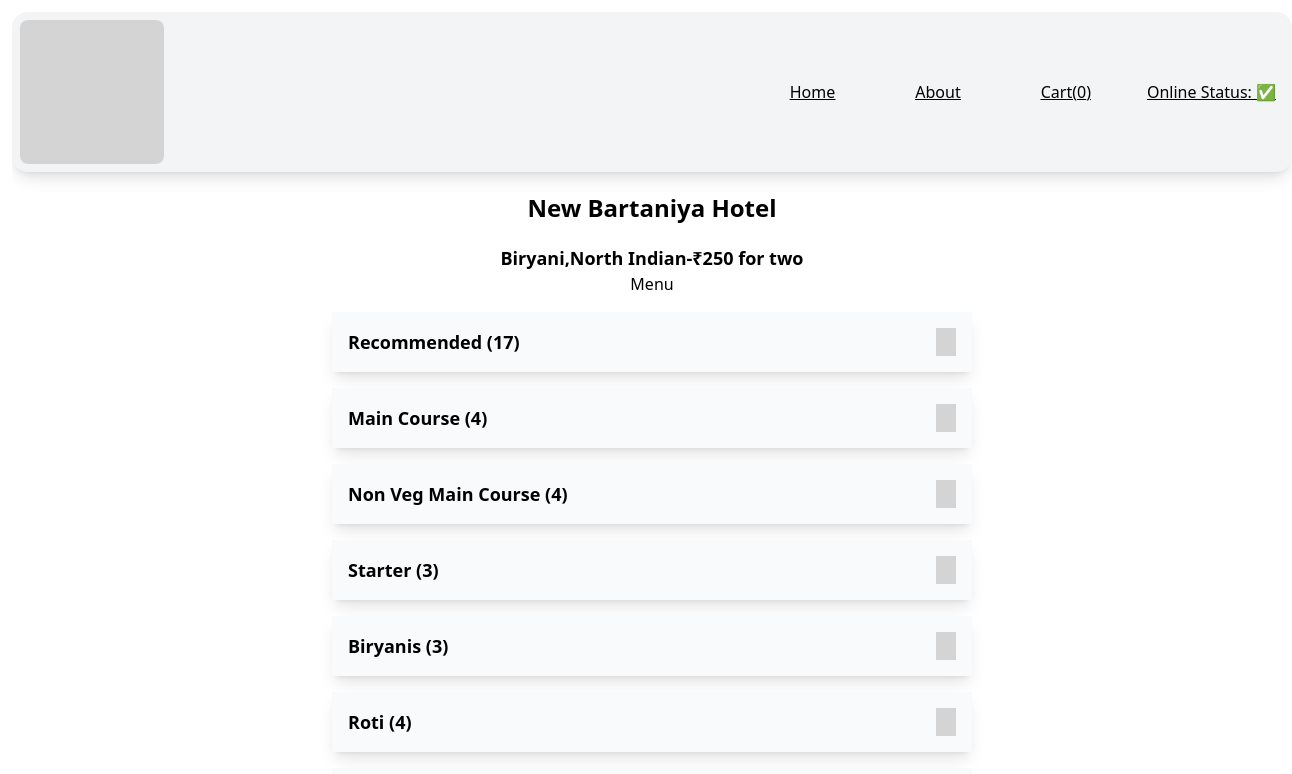
it: should add items to cart while clicking add items button
Click the text "Main Course (4)": (418, 418) [348, 404, 487, 432]
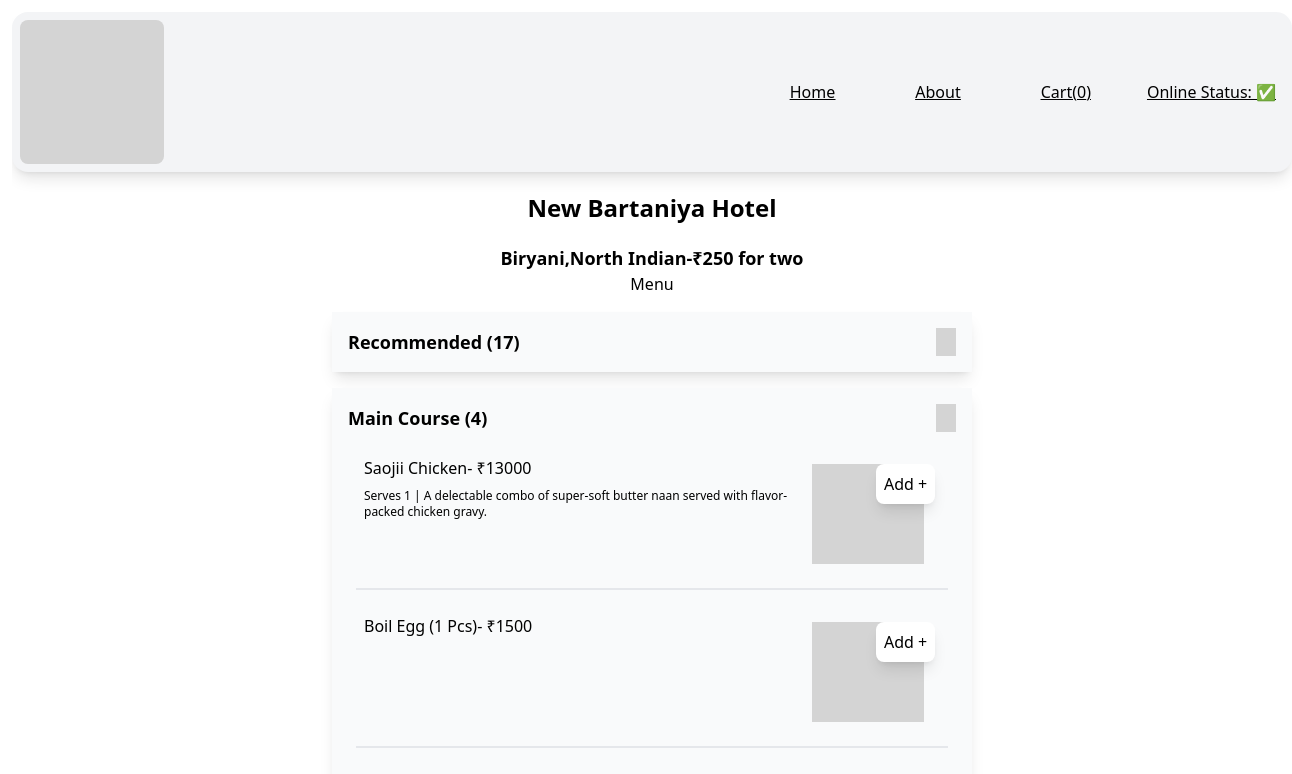
Result: the number of elements with test id "foodItems" is 4
